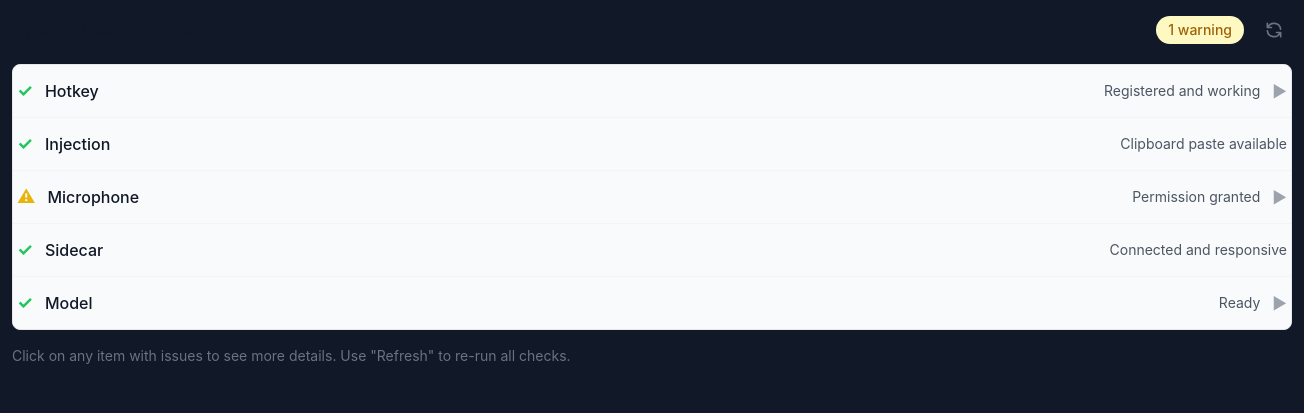
it: SelfCheck › expands detail when item clicked
# Click on hotkey row (has detail)
Click the text "Hotkey". click: x=72, y=91
box: [45,81,99,101]
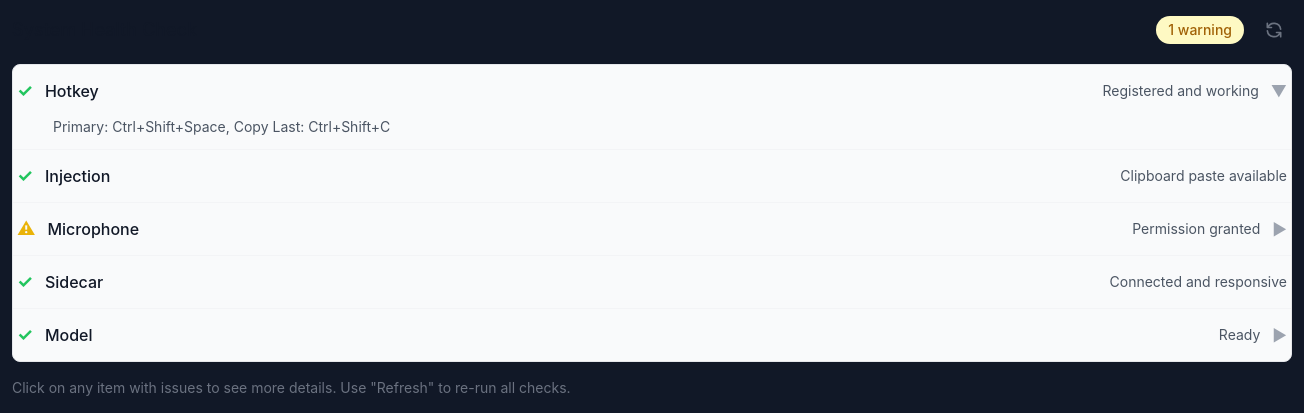
Now the text "Primary: Ctrl+Shift+Space, Copy Last: Ctrl+Shift+C" is shown, box [53,118,390,135]
